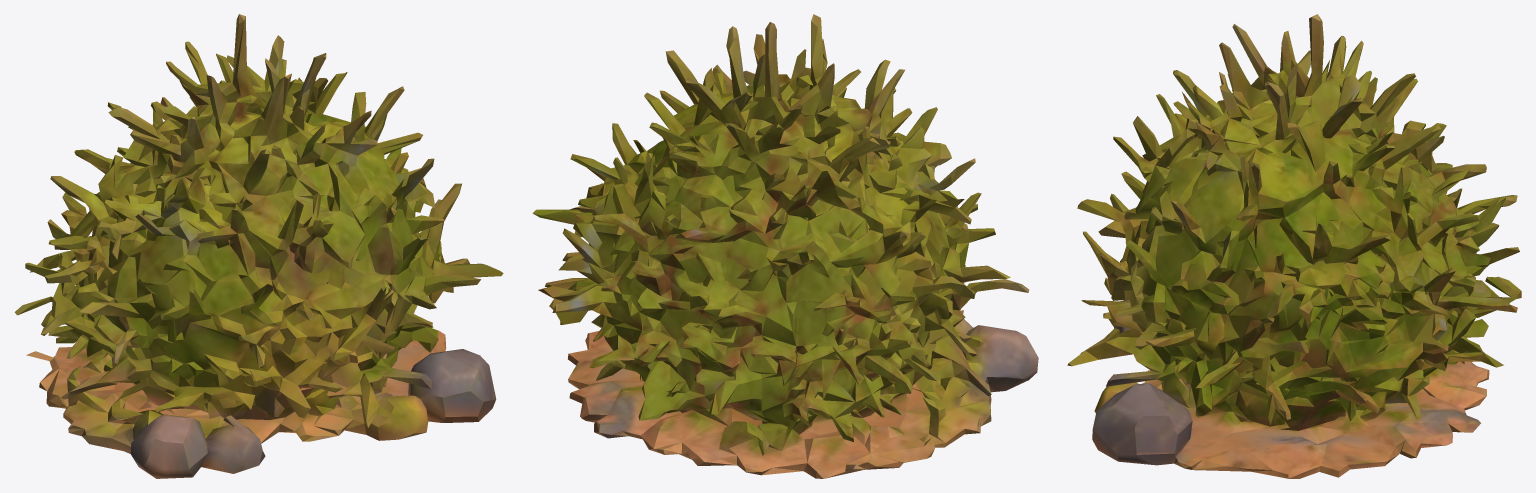
File: shrub_01.glb
3 views of the same model, side by side, from view 1: azimuth 30°, elevation 25°; view 2: azimuth 150°, elevation 25°; view 3: azimuth 270°, elevation 25° (orthographic). The views are drawn at different scales.
Visible parts, largest first — view 1: shrub_01; view 2: shrub_01; view 3: shrub_01.
Part boxes in pixels (left/top/right/bottom): shrub_01: left=14, top=14, right=503, bottom=478; shrub_01: left=532, top=14, right=1038, bottom=478; shrub_01: left=1067, top=14, right=1521, bottom=478.
Bounding box in the file's own units: 1.73 × 1.45 × 1.6.
1 material, 1 textured.
